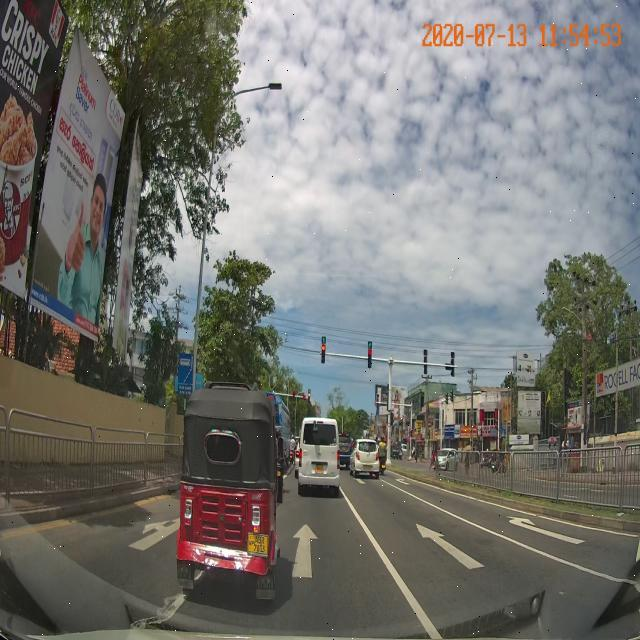forward: (279, 518, 422, 605)
